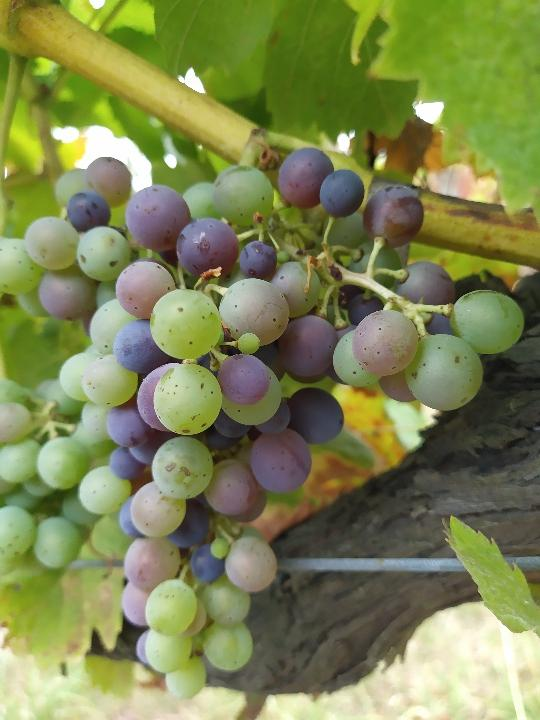grape: (0, 149, 528, 702)
